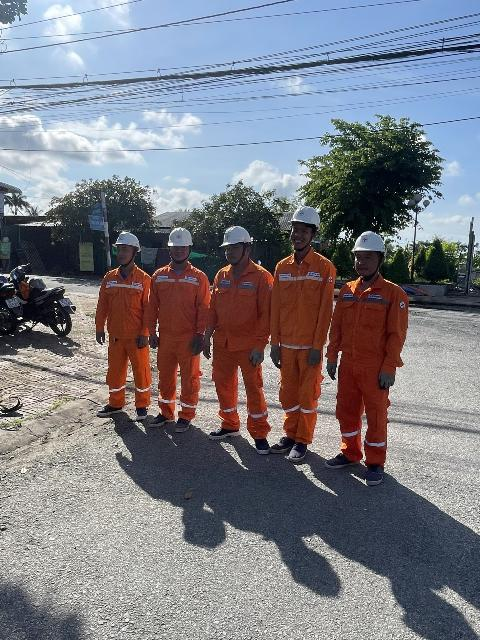gloves: (374, 364, 402, 401), (185, 336, 210, 361), (268, 340, 285, 369), (246, 345, 267, 367), (326, 355, 340, 381), (306, 351, 323, 370)
helmet: (345, 223, 392, 262), (281, 205, 327, 229), (164, 223, 200, 253), (216, 226, 254, 248), (110, 229, 145, 252)
shoes: (352, 463, 394, 492), (85, 392, 121, 425), (280, 435, 313, 464), (206, 421, 241, 446), (149, 404, 176, 432), (323, 453, 360, 473), (246, 431, 272, 457), (131, 399, 151, 427), (174, 410, 194, 437), (273, 430, 292, 453)
